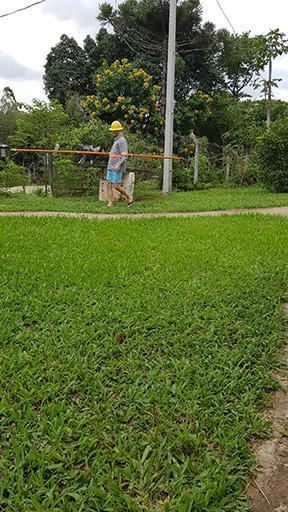helmet: (108, 119, 123, 136)
